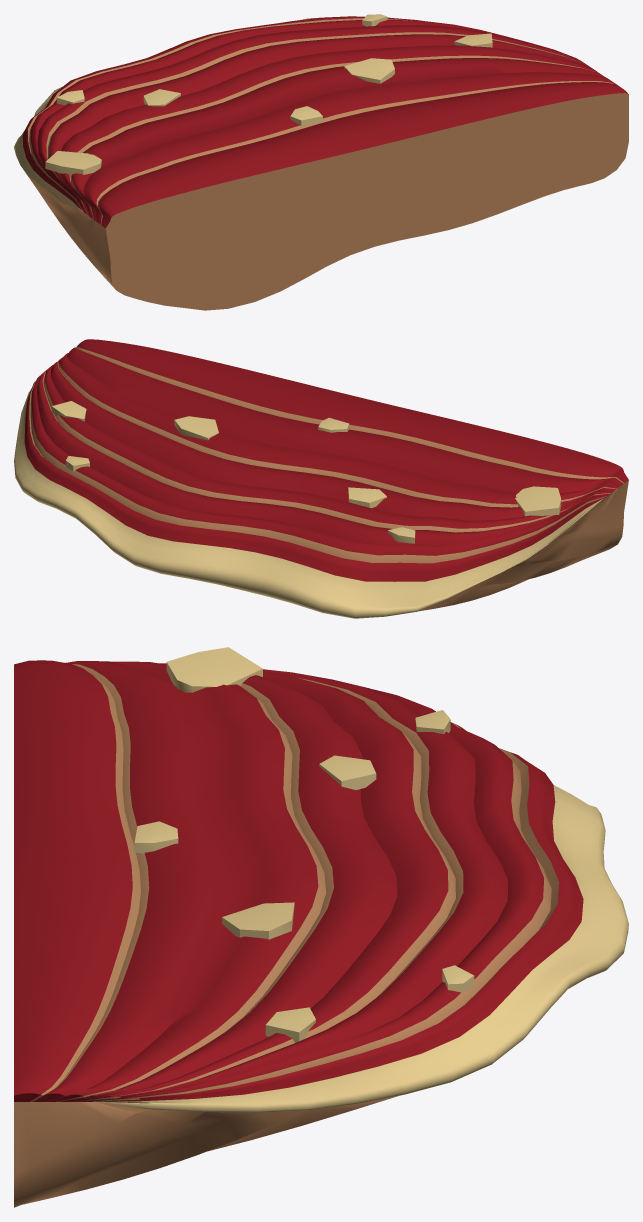
File: mushroom_shelf.obj
The picture shows the model from 3 angles, top to bottom: view 1: azimuth 30°, elevation 25°; view 2: azimuth 150°, elevation 25°; view 3: azimuth 270°, elevation 25°; orthographic projection. The views are drawn at different scales.
Visible parts, largest first — view 1: Mushroom_shelf; view 2: Mushroom_shelf; view 3: Mushroom_shelf.
Boxes of the visible parts, x1=… form: Mushroom_shelf: x1=14, y1=14, x2=628, y2=310; Mushroom_shelf: x1=14, y1=339, x2=628, y2=618; Mushroom_shelf: x1=14, y1=647, x2=628, y2=1207.
Size of what is drawn, in the model's own units: 1.85 by 0.4613 by 1.12.
